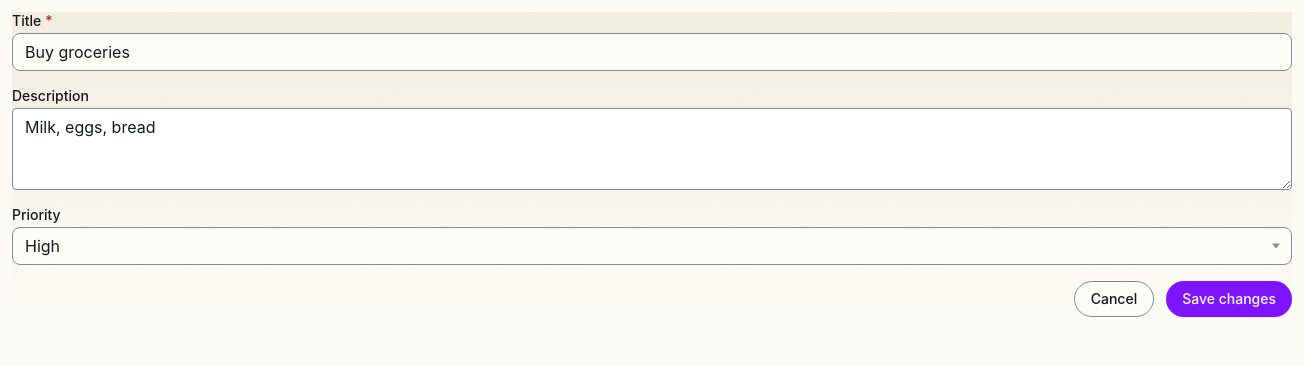
TaskForm › a 409 conflict redisplays the form with a generic message — no diff UI, no lost input
Replace the text in the field labelled "Title*" with "A conflicting edit" at (652, 52), box [12,33,1292,71]
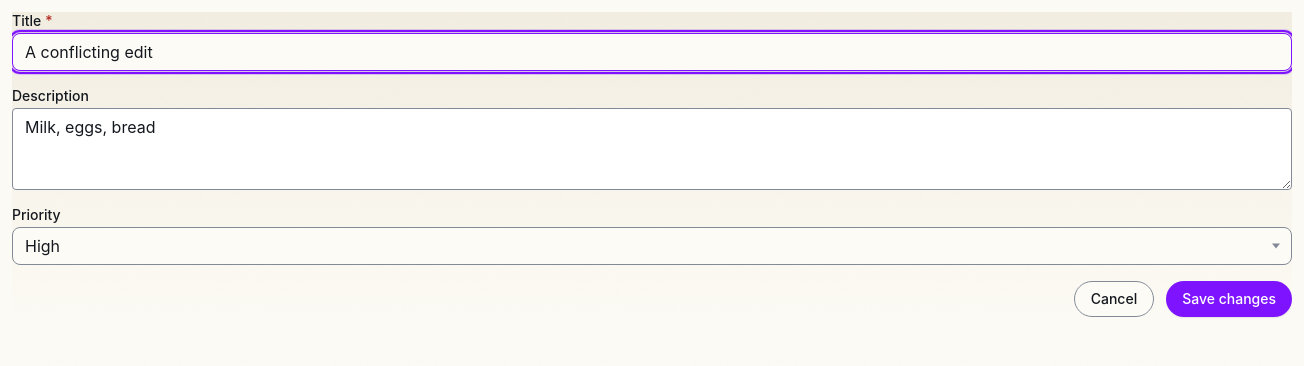
Click the button "Save changes" at (1229, 299), box [1166,281,1292,316]
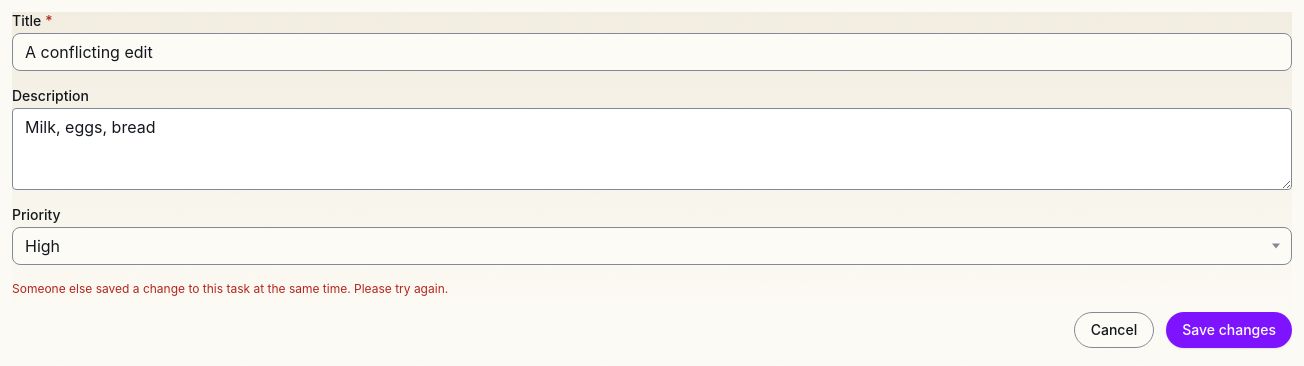
Expected: the message reads "Someone else saved a change to this task at the same time. Please try again.", [12,281,448,296]
